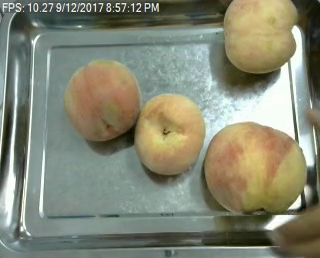Peach: (204, 121, 306, 214), (64, 58, 140, 143), (133, 92, 206, 176), (222, 0, 299, 74)
